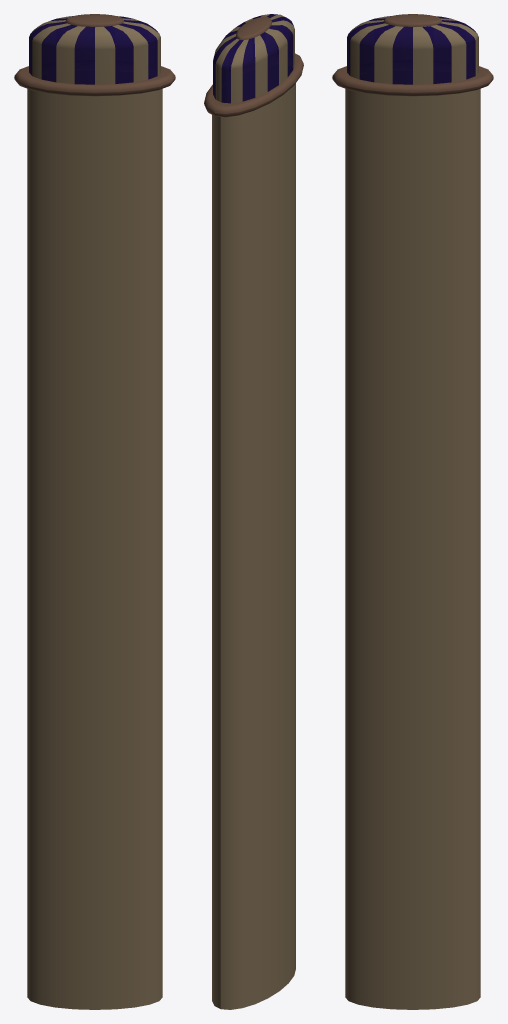
File: FlatBuilding.fbx
The picture shows the model from 3 angles, left to right: view 1: azimuth 90°, elevation 25°; view 2: azimuth 150°, elevation 25°; view 3: azimuth 270°, elevation 25°; orthographic projection. The views are drawn at different scales.
Visible parts, largest first — view 1: TCylinderBuilding; view 2: TCylinderBuilding; view 3: TCylinderBuilding.
Part boxes in pixels (box(x1,y1,x2,y2)): TCylinderBuilding: box(14, 14, 175, 1009); TCylinderBuilding: box(204, 14, 303, 1009); TCylinderBuilding: box(332, 14, 493, 1009).
Bounding box in the file's own units: 9.14 × 137 × 20.44.
